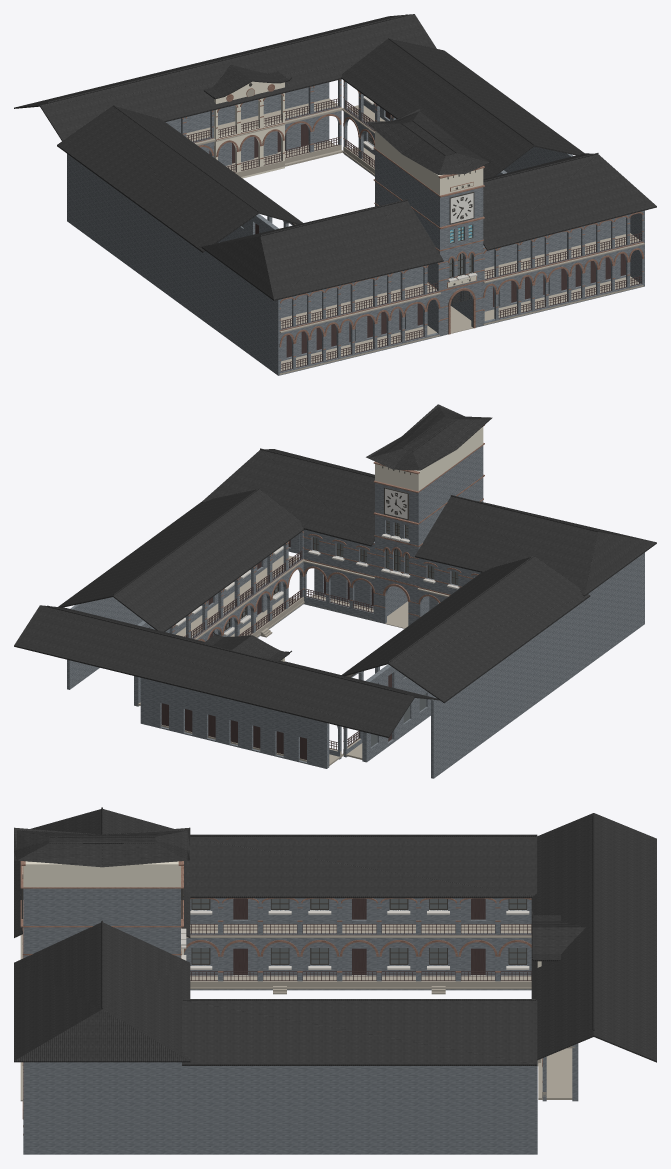
The model's file is full-source.glb.
3 views of the same model, one above another, from view 1: azimuth 30°, elevation 25°; view 2: azimuth 150°, elevation 25°; view 3: azimuth 270°, elevation 25° (orthographic). The views are drawn at different scales.
Parts seen in each view (by area): view 1: 圣约翰大学怀施堂（韬奋楼）南翼与钟楼; view 2: 圣约翰大学怀施堂（韬奋楼）南翼与钟楼; view 3: 圣约翰大学怀施堂（韬奋楼）南翼与钟楼.
Boxes of the visible parts, <box> form: 圣约翰大学怀施堂（韬奋楼）南翼与钟楼: <box>14,14,656,375</box>; 圣约翰大学怀施堂（韬奋楼）南翼与钟楼: <box>14,404,656,778</box>; 圣约翰大学怀施堂（韬奋楼）南翼与钟楼: <box>14,807,656,1154</box>.
Bounding box in the file's own units: 43.13 × 18.06 × 50.94.
12 materials, 4 textured.
